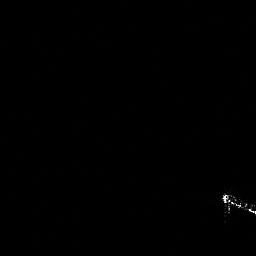ship: (217, 188, 256, 222)
